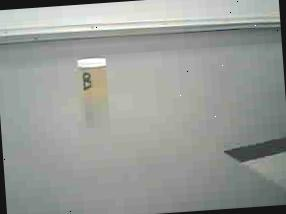Bottle B: (64, 50, 121, 119)
